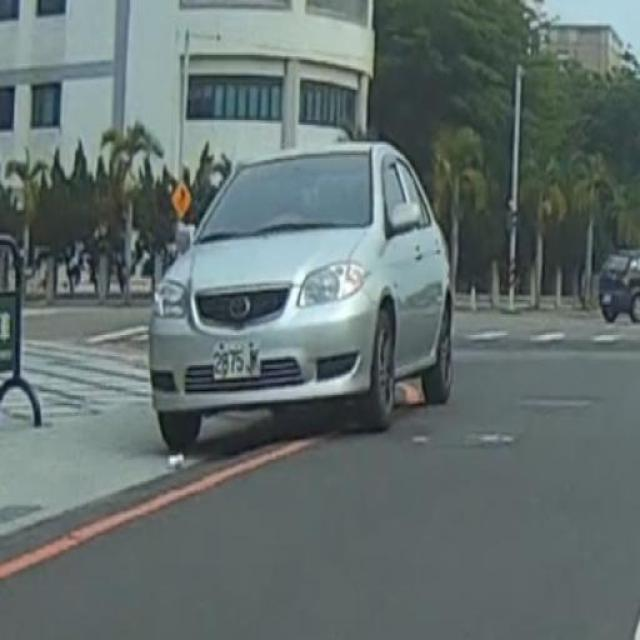illegalparking: (95, 108, 490, 489)
